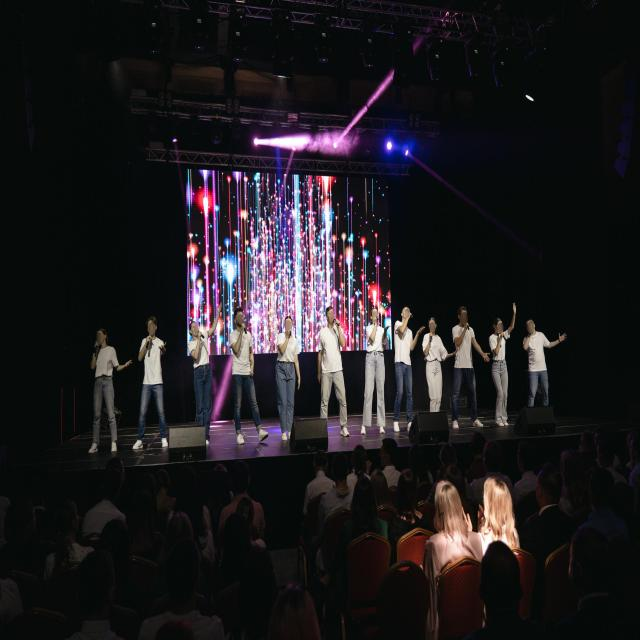Person: (557, 522, 628, 640), (80, 326, 126, 467), (474, 539, 538, 640), (227, 302, 270, 448), (314, 304, 355, 448), (132, 314, 171, 462), (154, 540, 208, 640), (67, 537, 119, 640), (210, 512, 275, 589), (186, 310, 220, 448), (524, 305, 569, 409), (424, 478, 468, 576), (450, 304, 482, 437), (390, 301, 419, 440), (361, 299, 389, 440), (52, 488, 94, 581), (272, 315, 302, 440), (489, 300, 517, 431), (0, 487, 44, 569), (530, 462, 572, 544), (160, 504, 192, 605), (484, 467, 518, 558), (348, 478, 389, 547), (424, 310, 448, 419), (306, 439, 339, 511), (392, 466, 426, 534), (126, 495, 158, 566), (558, 443, 582, 530), (585, 470, 614, 534), (132, 469, 168, 519), (615, 479, 640, 548), (173, 468, 205, 518), (104, 465, 128, 527), (330, 451, 350, 524), (513, 437, 539, 493), (232, 456, 260, 508), (597, 436, 623, 489), (211, 461, 236, 514), (375, 430, 397, 489), (481, 435, 503, 484), (352, 445, 373, 486), (438, 437, 456, 480), (590, 424, 614, 456), (630, 433, 640, 486)
